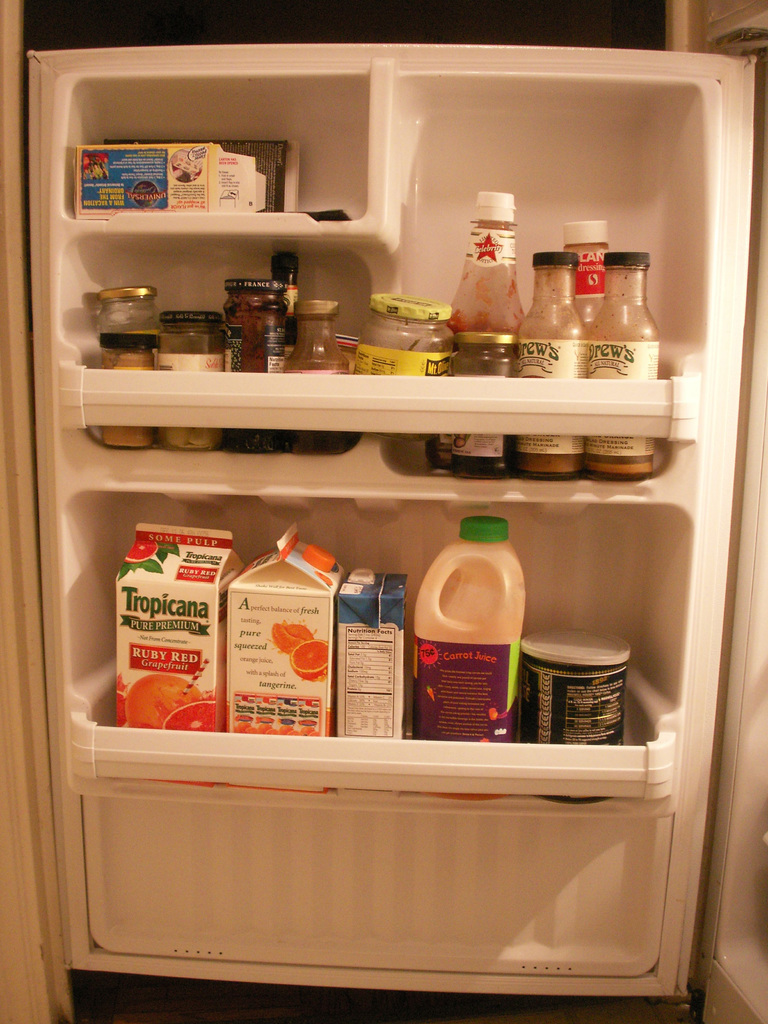refrigerator door: (34, 64, 687, 988)
